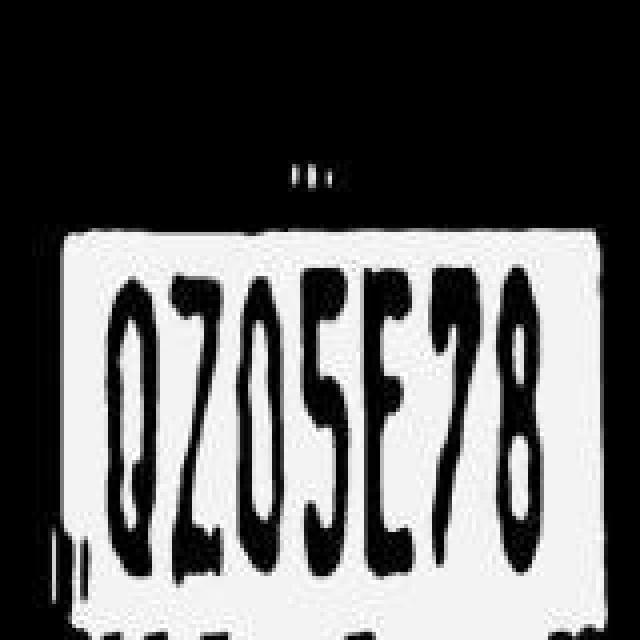5: (290, 264, 366, 576)
7: (416, 250, 488, 566)
8: (486, 266, 546, 574)
E: (350, 268, 426, 580)
O: (228, 274, 284, 598)
Q: (94, 274, 162, 582)
Z: (162, 270, 238, 626)
